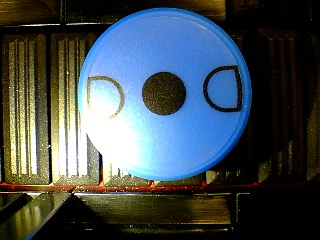BOHOMIPO2: (77, 6, 252, 181)
